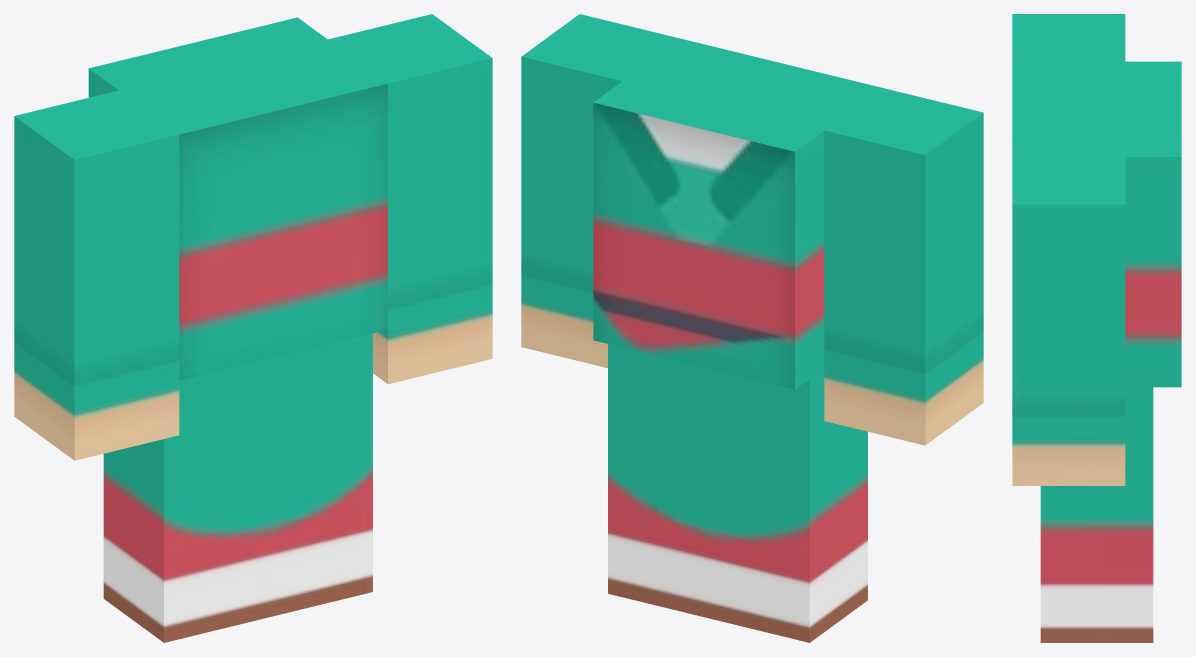
File: blocky-n.glb
3 renders of one model, left to right at view 1: azimuth 30°, elevation 25°; view 2: azimuth 150°, elevation 25°; view 3: azimuth 270°, elevation 25°, orthographic. The views are drawn at different scales.
Parts seen in each view (by area): view 1: torso, arm-left, arm-right, leg-left, leg-right; view 2: torso, arm-left, leg-left, arm-right, leg-right; view 3: arm-right, torso, leg-right, arm-left.
Boxes of the visible parts, x1,y1,x2,y2 form: torso: [88, 17, 387, 380]; arm-left: [14, 90, 179, 460]; arm-right: [328, 14, 492, 384]; leg-left: [103, 359, 268, 642]; leg-right: [268, 333, 372, 617]; torso: [593, 38, 881, 389]; arm-left: [824, 88, 983, 445]; leg-left: [708, 368, 867, 642]; arm-right: [521, 14, 679, 367]; leg-right: [608, 344, 708, 618]; arm-right: [1012, 157, 1125, 485]; torso: [1012, 61, 1181, 387]; leg-right: [1040, 387, 1153, 642]; arm-left: [1012, 14, 1125, 61].
Bounding box in the file's own units: 1.21 × 1.44 × 0.4537.
Materials: 1 (1 with a texture image).
